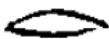Mouth: (3, 4, 108, 39)
